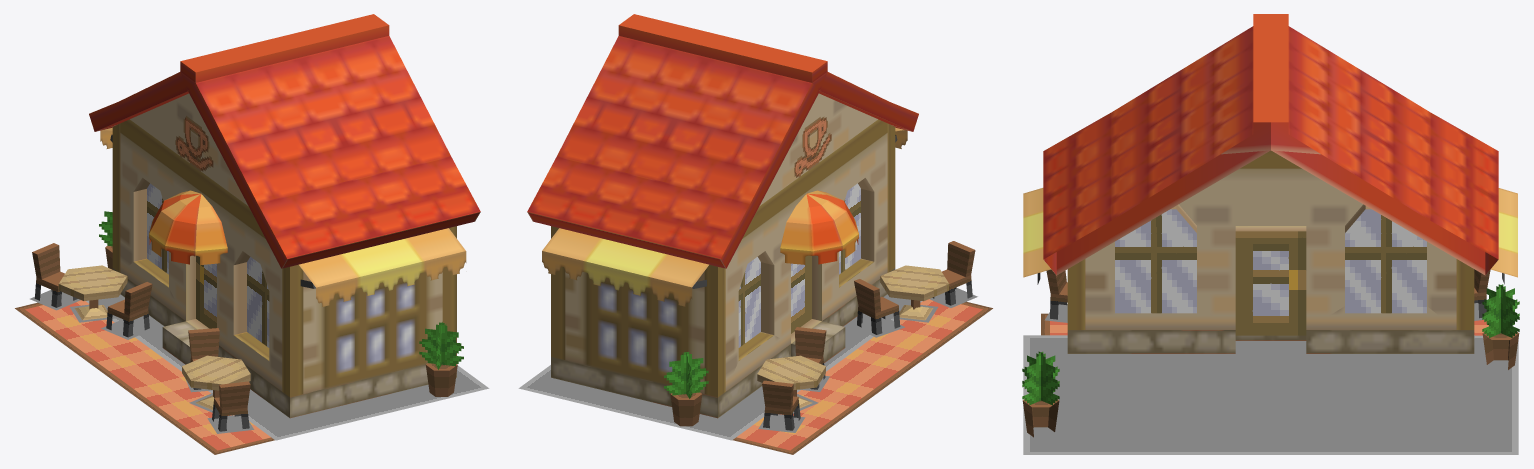
3 views of the same model, side by side, from view 1: azimuth 30°, elevation 25°; view 2: azimuth 150°, elevation 25°; view 3: azimuth 270°, elevation 25° (orthographic). The views are drawn at different scales.
Visible parts, largest first — view 1: polygon2, polygon1, polygon0; view 2: polygon2, polygon1, polygon0; view 3: polygon2, polygon0, polygon1.
Part boxes in pixels (x1=…): polygon2: x1=89, y1=14, x2=480, y2=418; polygon1: x1=15, y1=116, x2=463, y2=454; polygon0: x1=30, y1=289, x2=489, y2=440; polygon2: x1=527, y1=14, x2=918, y2=418; polygon1: x1=664, y1=116, x2=992, y2=454; polygon0: x1=518, y1=287, x2=977, y2=440; polygon2: x1=1023, y1=14, x2=1517, y2=353; polygon0: x1=1023, y1=303, x2=1518, y2=454; polygon1: x1=1022, y1=209, x2=1519, y2=437.
Bounding box in the file's own units: 5 × 5.31 × 7.03.
3 materials, 3 textured.
